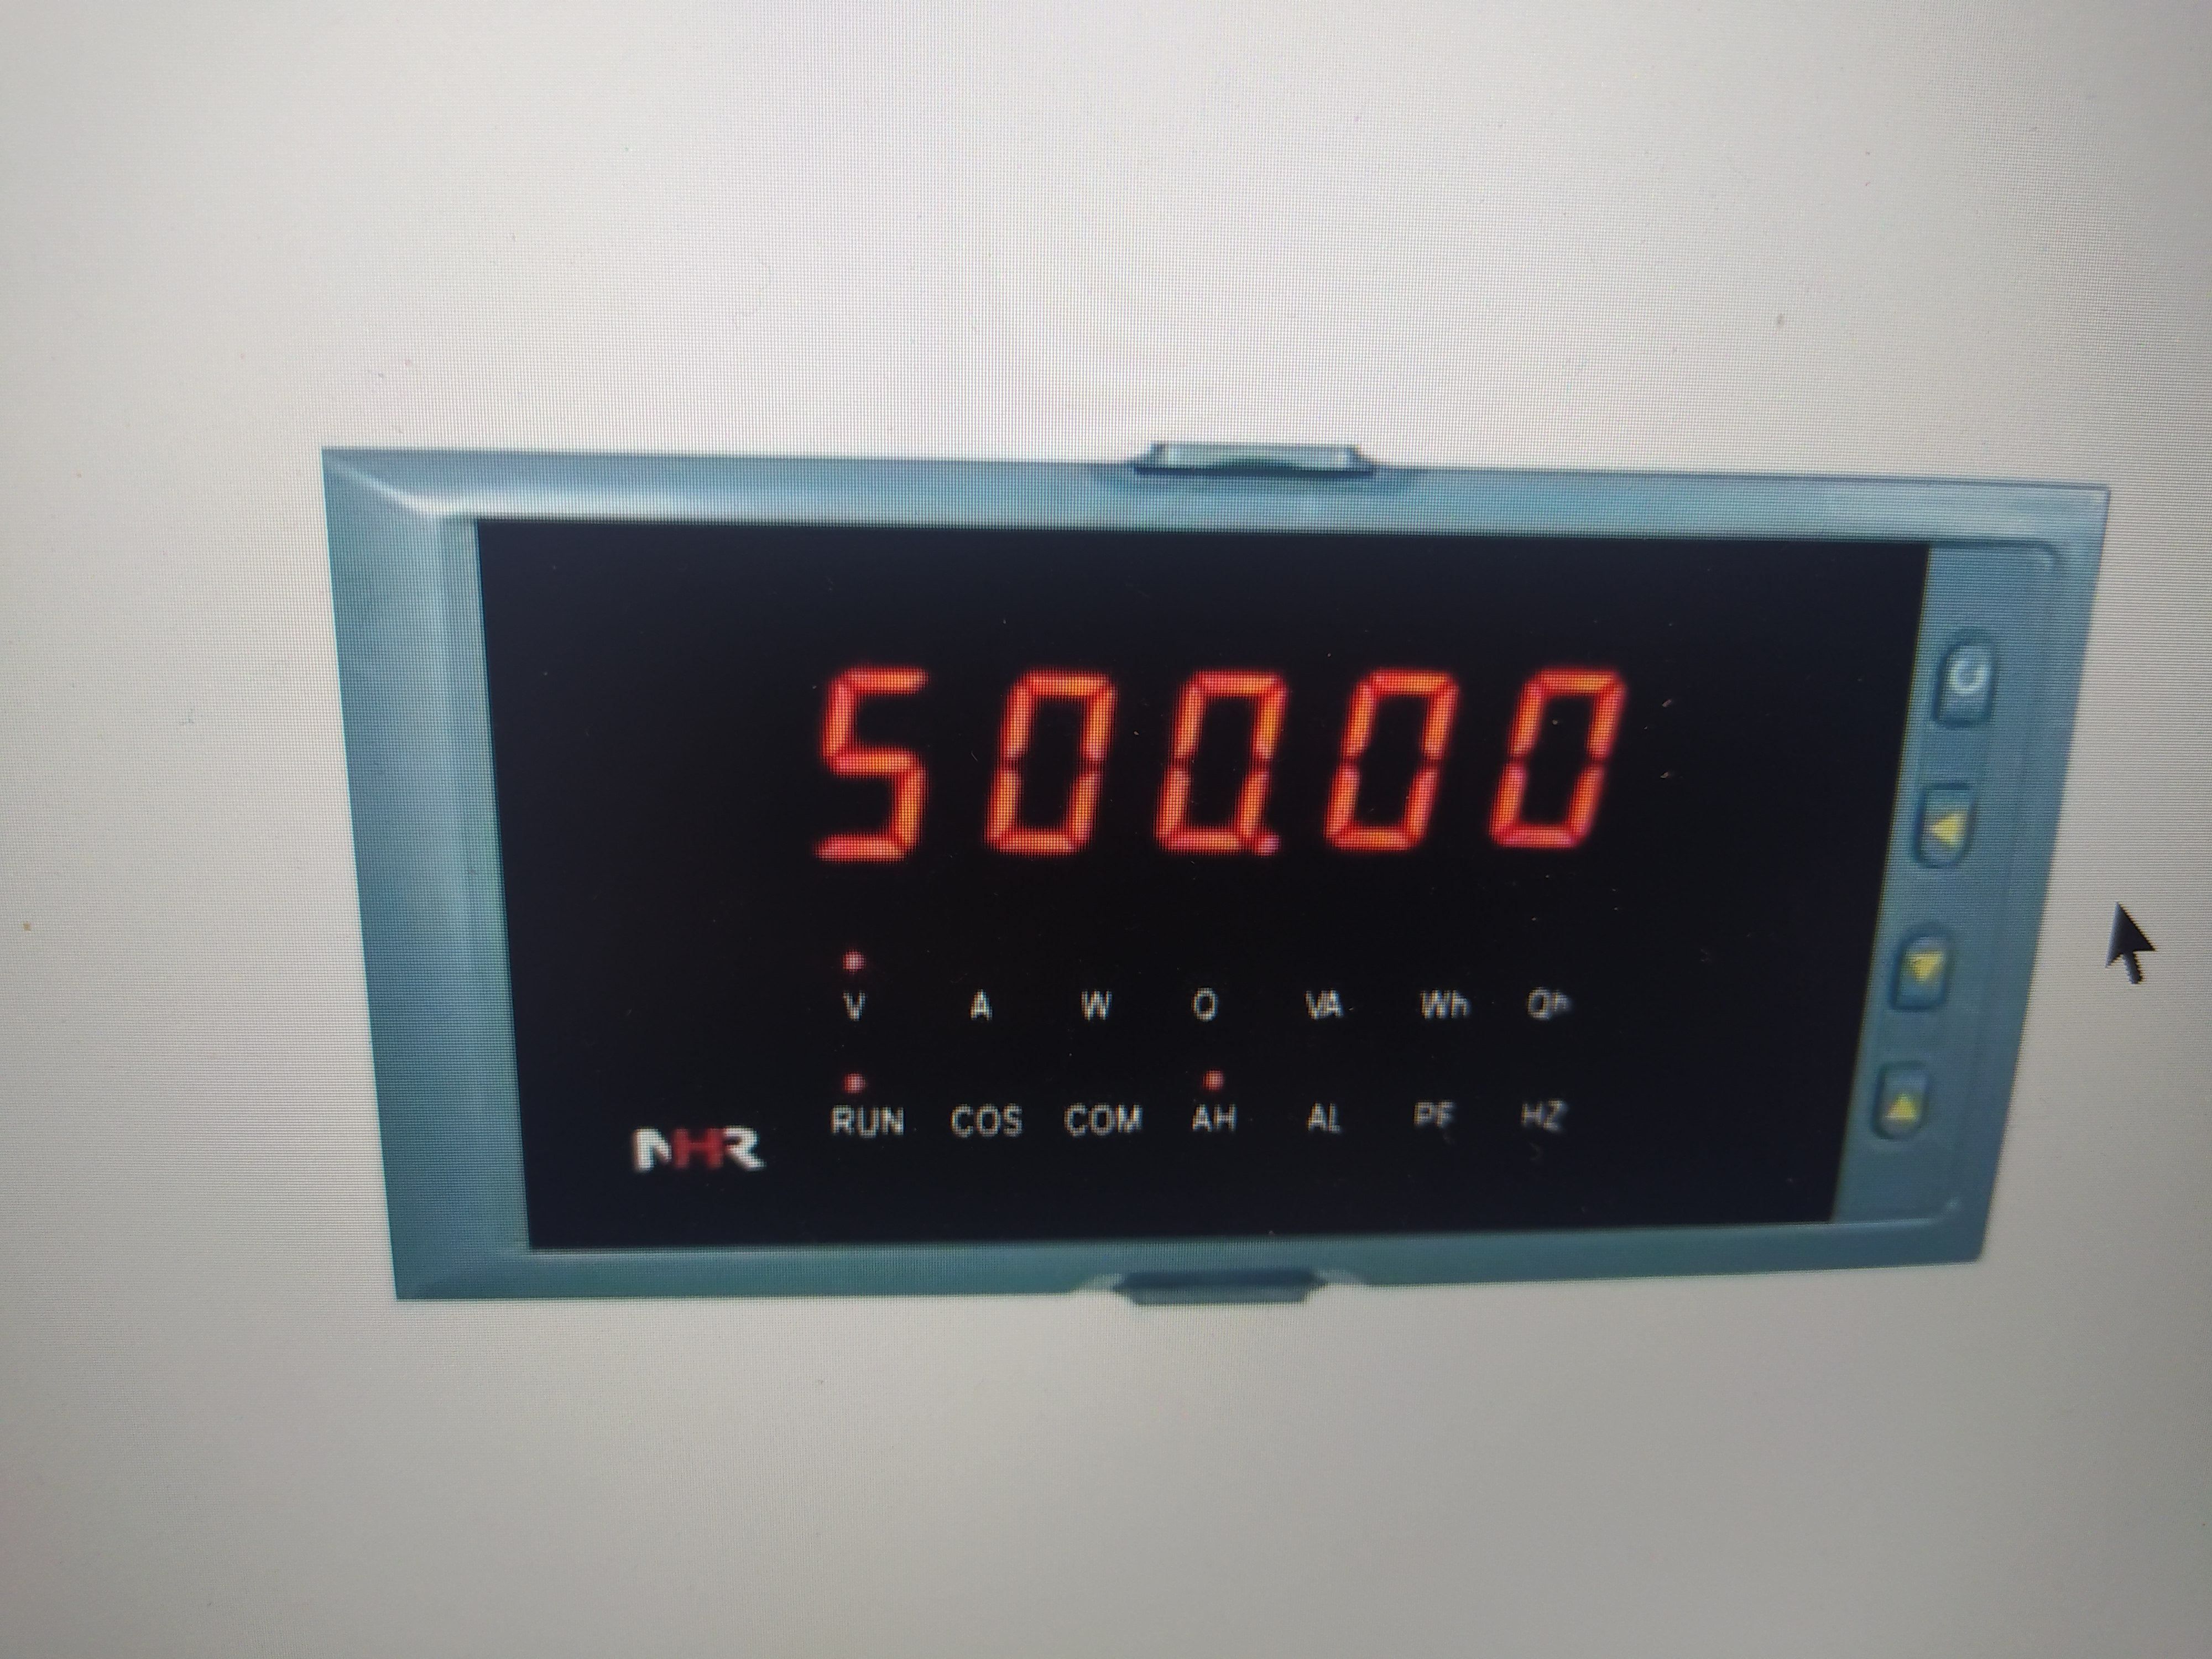.: (1252, 678, 1282, 857)
0: (1318, 647, 1461, 868), (984, 650, 1122, 875), (1493, 655, 1629, 871), (1165, 660, 1284, 857)
5: (819, 652, 934, 877)
